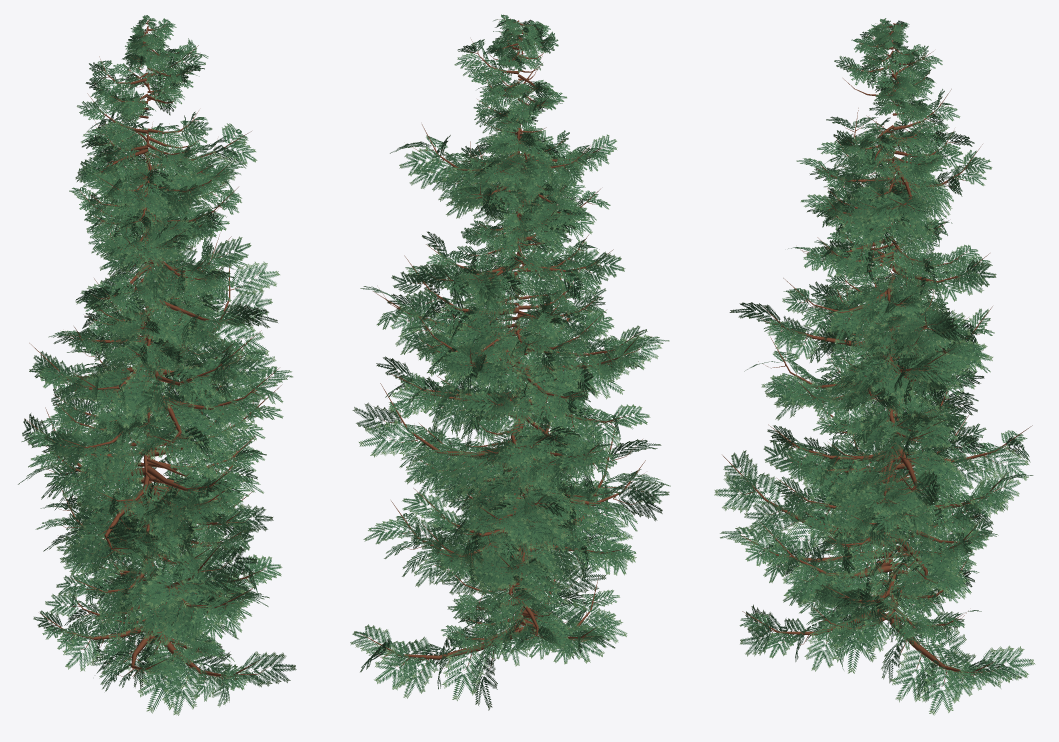
The model's file is forest-redwood-lod1.meshopt.glb.
3 views of the same model, side by side, from view 1: azimuth 30°, elevation 25°; view 2: azimuth 150°, elevation 25°; view 3: azimuth 270°, elevation 25° (orthographic). The views are drawn at different scales.
Parts seen in each view (by area): view 1: redwood-crown; view 2: redwood-crown; view 3: redwood-crown.
Part boxes in pixels (x1,y1,x2,y2): redwood-crown: (18,15,296,715); redwood-crown: (350,14,670,710); redwood-crown: (714,18,1035,715).
Bounding box in the file's own units: 20.74 × 46.98 × 21.63.
4 materials, 3 textured.
